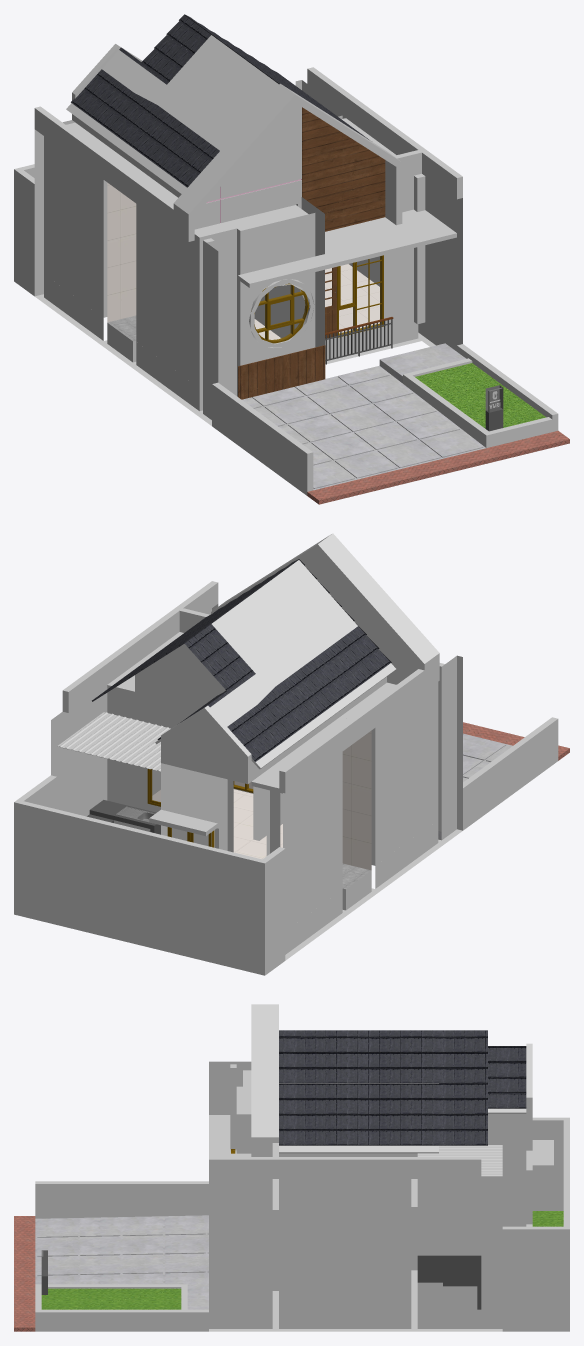
File: yuri-40.glb
3 renders of one model, top to bottom at view 1: azimuth 30°, elevation 25°; view 2: azimuth 150°, elevation 25°; view 3: azimuth 270°, elevation 25°, orthographic. The views are drawn at different scales.
Parts seen in each view (by area): view 1: ID70, ID922, ID706, ID678, ID99, ID1291, ID119, ID5, ID613; view 2: ID70, ID706, ID99, ID922, ID613, ID1291, ID27, ID5; view 3: ID70, ID706, ID922, ID119, ID1291, ID613.
Part boxes in pixels (x1=…): ID70: x1=14, y1=35, x2=558, y2=495; ID922: x1=242, y1=343, x2=485, y2=490; ID706: x1=71, y1=14, x2=368, y2=187; ID678: x1=238, y1=107, x2=385, y2=399; ID99: x1=107, y1=182, x2=379, y2=339; ID1291: x1=307, y1=430, x2=569, y2=504; ID119: x1=415, y1=363, x2=546, y2=428; ID5: x1=251, y1=255, x2=383, y2=343; ID613: x1=325, y1=319, x2=392, y2=364; ID70: x1=14, y1=533, x2=558, y2=975; ID706: x1=92, y1=559, x2=391, y2=761; ID99: x1=152, y1=730, x2=371, y2=870; ID922: x1=438, y1=733, x2=512, y2=840; ID613: x1=87, y1=800, x2=160, y2=834; ID1291: x1=463, y1=722, x2=569, y2=760; ID27: x1=152, y1=769, x2=208, y2=845; ID5: x1=147, y1=769, x2=253, y2=847; ID70: x1=35, y1=1004, x2=569, y2=1331; ID706: x1=279, y1=1030, x2=526, y2=1145; ID922: x1=35, y1=1215, x2=208, y2=1309; ID119: x1=41, y1=1211, x2=563, y2=1309; ID1291: x1=14, y1=1216, x2=35, y2=1331; ID613: x1=417, y1=1255, x2=481, y2=1309.
Size of the model in its own units: 6.2 by 6.81 by 13.05.
20 materials, 11 textured.
